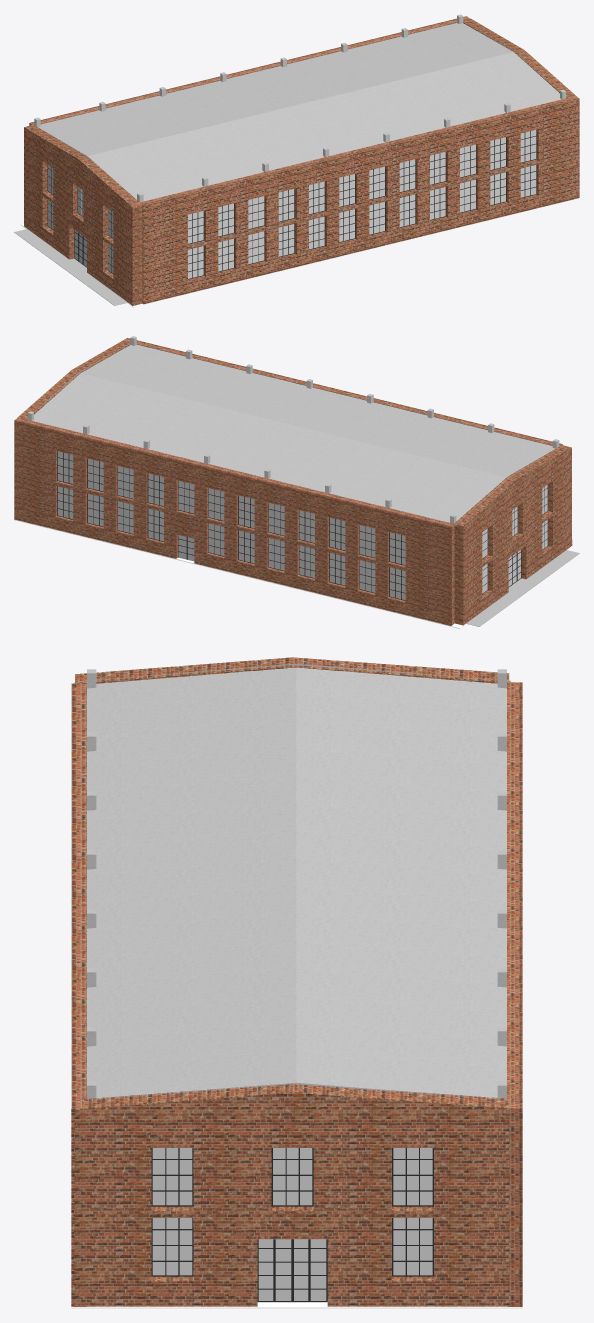
The picture shows the model from 3 angles, top to bottom: view 1: azimuth 30°, elevation 25°; view 2: azimuth 150°, elevation 25°; view 3: azimuth 270°, elevation 25°; orthographic projection. The views are drawn at different scales.
Parts seen in each view (by area): view 1: Line019, Rectangle059, Line001, Rectangle001, 01_floor, Line042, Rectangle1543331685, Rectangle078, Rectangle103, Rectangle113, Rectangle105, Rectangle080 (+19 smaller); view 2: Line019, Rectangle001, Line001, Rectangle059, 01_floor, Line042, Rectangle1543331685, Rectangle005, Rectangle015, Rectangle031, Rectangle041, Rectangle007.001 (+18 smaller); view 3: Line019, Line042, Rectangle001, Rectangle059, Line001, Rectangle206, Rectangle196, Rectangle204, Rectangle200, Rectangle198, Rectangle194, Rectangle202 (+1 smaller).
Boxes of the visible parts, x1,y1,x2,y2 form: Line019: [31, 21, 568, 204]; Rectangle059: [140, 97, 579, 304]; Line001: [24, 125, 142, 305]; Rectangle001: [29, 16, 469, 125]; 01_floor: [14, 229, 127, 305]; Line042: [463, 18, 577, 99]; Rectangle1543331685: [20, 198, 579, 307]; Rectangle078: [248, 196, 264, 228]; Rectangle103: [248, 231, 264, 264]; Rectangle113: [520, 165, 536, 197]; Rectangle105: [278, 224, 294, 256]; Rectangle080: [278, 189, 294, 221]; Line019: [26, 344, 561, 525]; Rectangle001: [14, 418, 454, 625]; Line001: [454, 445, 572, 625]; Rectangle059: [125, 338, 562, 446]; 01_floor: [466, 550, 579, 626]; Line042: [17, 339, 130, 419]; Rectangle1543331685: [14, 519, 572, 628]; Rectangle005: [359, 525, 375, 557]; Rectangle015: [208, 488, 224, 520]; Rectangle031: [359, 560, 375, 592]; Rectangle041: [208, 523, 224, 555]; Rectangle007.001: [329, 517, 345, 550]; Line019: [78, 663, 510, 1100]; Line042: [74, 1084, 509, 1306]; Rectangle001: [507, 682, 522, 1306]; Rectangle059: [71, 683, 86, 1306]; Line001: [74, 657, 509, 683]; Rectangle206: [152, 1148, 192, 1205]; Rectangle196: [152, 1218, 192, 1275]; Rectangle204: [273, 1148, 312, 1205]; Rectangle200: [393, 1148, 432, 1205]; Rectangle198: [393, 1218, 432, 1275]; Rectangle194: [258, 1239, 291, 1300]; Rectangle202: [294, 1239, 326, 1300].
Size of what is drawn, in the model's own units: 68.37 by 15.75 by 29.12.
52 materials, 36 textured.
